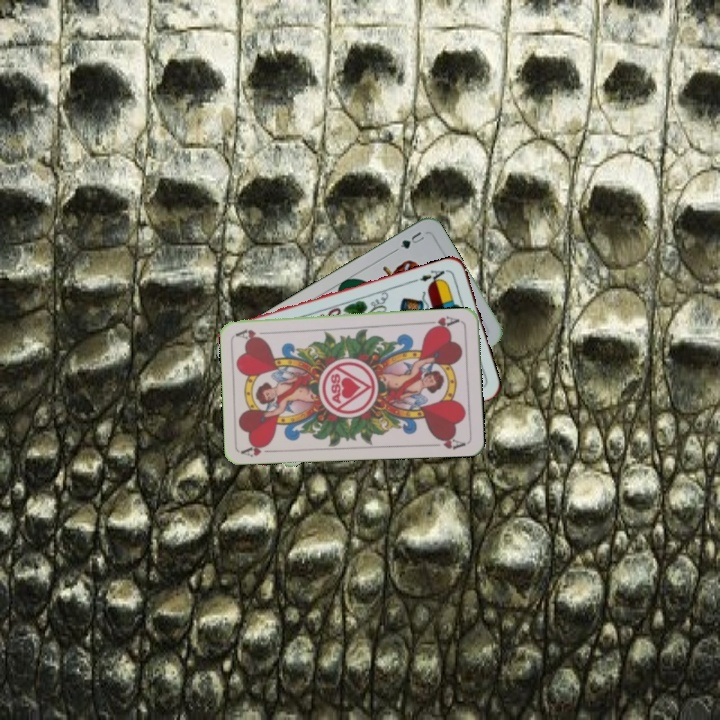EA: (411, 265, 450, 287)
GU: (396, 227, 427, 251)
HA: (239, 439, 279, 459), (423, 312, 462, 332)
